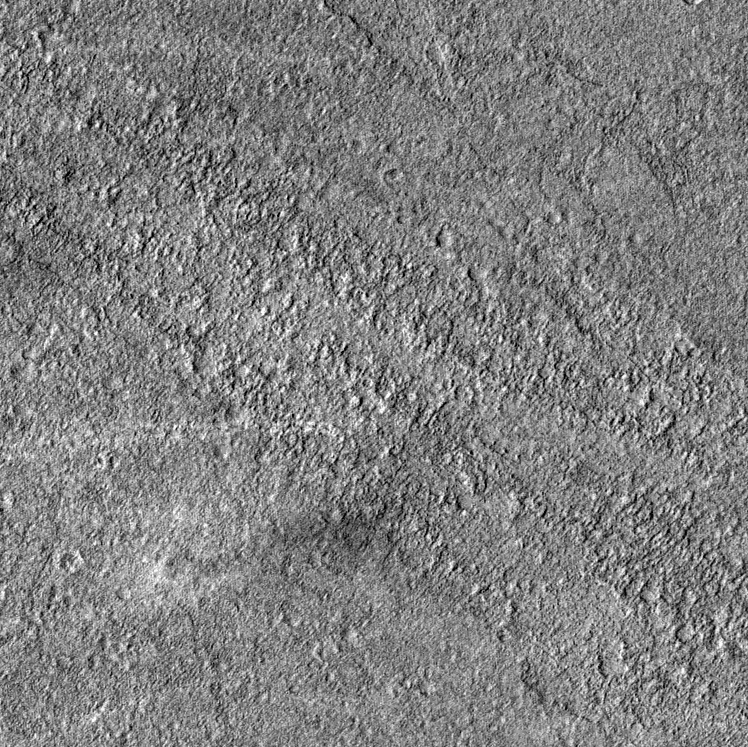dust_devil: (141, 507, 379, 600)
